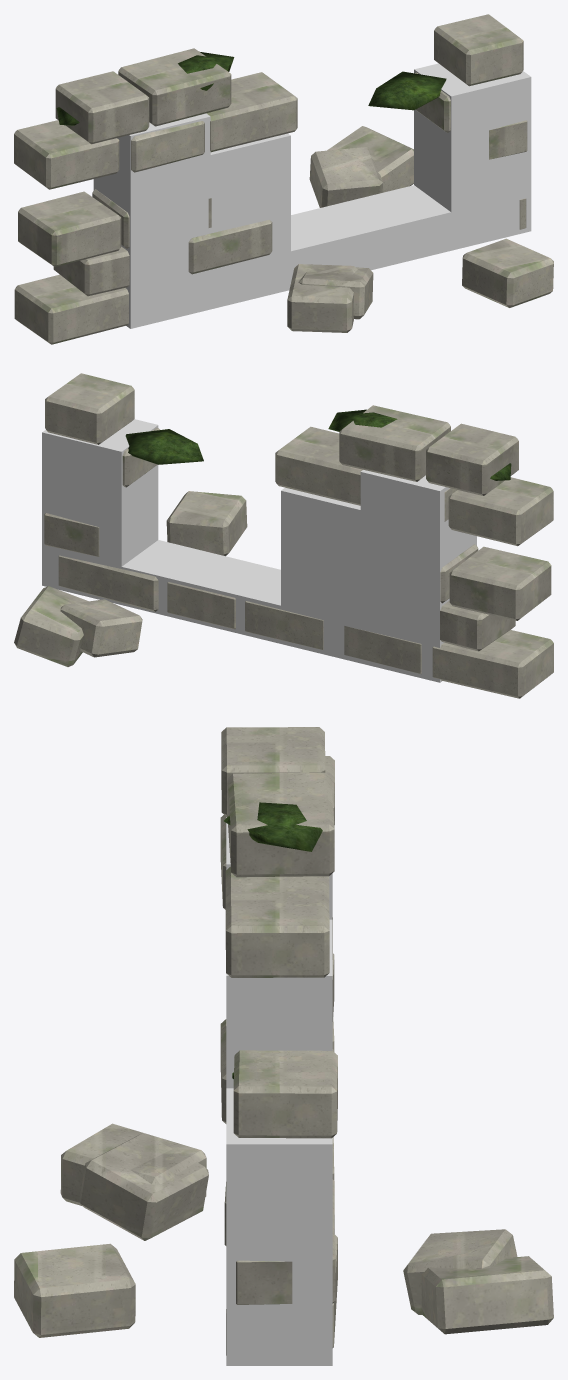
Rendered from ruin_wall.glb.
The picture shows the model from 3 angles, top to bottom: view 1: azimuth 30°, elevation 25°; view 2: azimuth 150°, elevation 25°; view 3: azimuth 270°, elevation 25°; orthographic projection. The views are drawn at different scales.
Parts seen in each view (by area): view 1: RuinWall, RuinWallCol-convcolonly.005, RuinWallCol-convcolonly.001, RuinWallCol-convcolonly.002, RuinWallCol-convcolonly.004, RuinWallCol-convcolonly.003, RuinWallMoss; view 2: RuinWall, RuinWallCol-convcolonly.001, RuinWallCol-convcolonly.005, RuinWallCol-convcolonly.002, RuinWallCol-convcolonly.004, RuinWallMoss, RuinWallCol-convcolonly.003; view 3: RuinWall, RuinWallCol-convcolonly.005, RuinWallCol-convcolonly.002, RuinWallMoss.
Boxes of the visible parts, <box> form: RuinWall: <box>14,14,553,344</box>; RuinWallCol-convcolonly.005: <box>414,63,531,250</box>; RuinWallCol-convcolonly.001: <box>93,113,210,328</box>; RuinWallCol-convcolonly.002: <box>210,133,290,309</box>; RuinWallCol-convcolonly.004: <box>334,185,451,270</box>; RuinWallCol-convcolonly.003: <box>291,205,370,281</box>; RuinWallMoss: <box>56,51,446,125</box>; RuinWall: <box>14,373,553,698</box>; RuinWallCol-convcolonly.001: <box>360,470,476,682</box>; RuinWallCol-convcolonly.005: <box>42,419,158,604</box>; RuinWallCol-convcolonly.002: <box>281,487,360,663</box>; RuinWallCol-convcolonly.004: <box>121,540,237,624</box>; RuinWallMoss: <box>125,409,511,480</box>; RuinWallCol-convcolonly.003: <box>201,559,280,643</box>; RuinWall: <box>14,727,553,1355</box>; RuinWallCol-convcolonly.005: <box>226,1088,332,1365</box>; RuinWallCol-convcolonly.002: <box>226,919,332,1088</box>; RuinWallMoss: <box>224,802,322,1079</box>.
Size of what is drawn, in the model's own units: 6.02 by 2.87 by 4.06.
2 materials, 2 textured.
